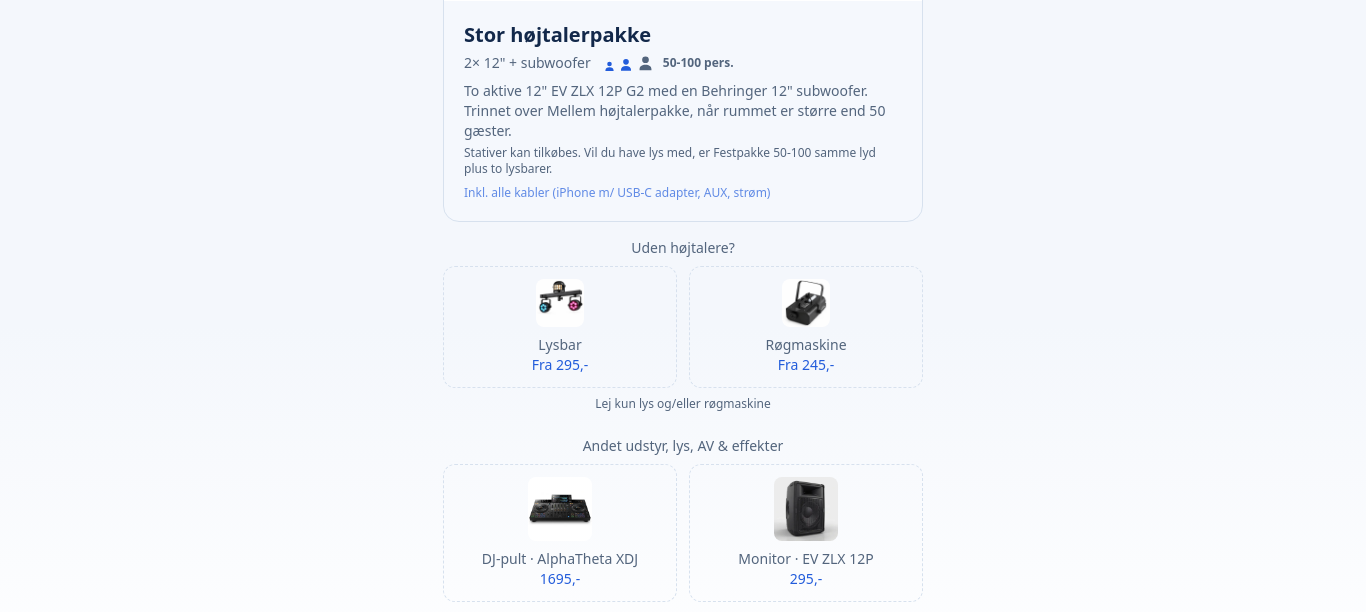
Test: BookingFlow - Step 1: Speaker selection › advances to step 2 in effects-only mode when clicking røg
The image size is (1366, 612).
(page scrolled)
Click the button "Røgmaskine Fra 245,-" at (806, 327), box [689, 266, 923, 388]
(page scrolled)
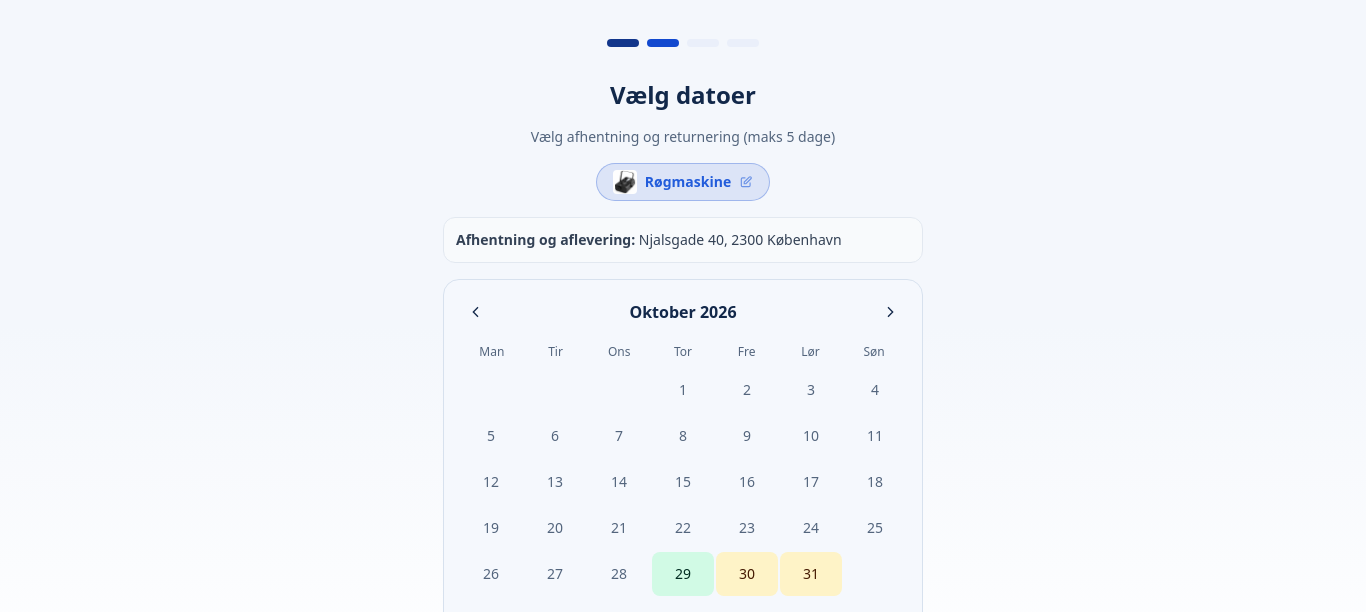
Result: the heading "Vælg datoer" is shown at [610, 78, 756, 111]
